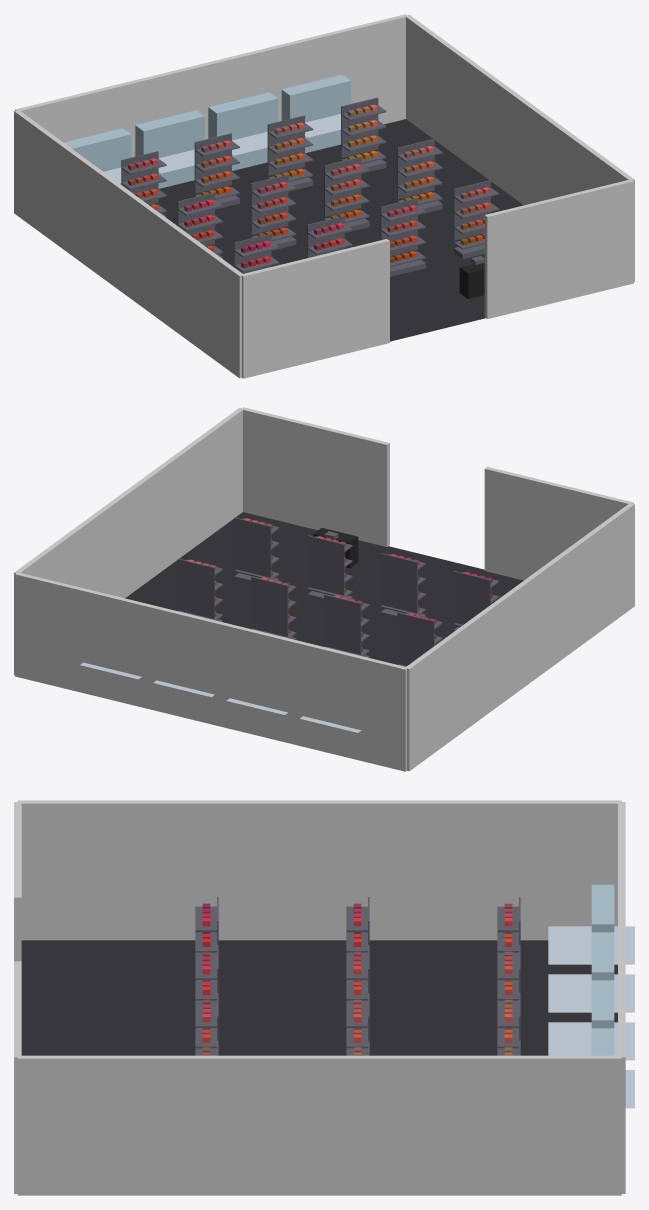
File: supermarket_interior.obj
The picture shows the model from 3 angles, top to bottom: view 1: azimuth 30°, elevation 25°; view 2: azimuth 150°, elevation 25°; view 3: azimuth 270°, elevation 25°; orthographic projection. The views are drawn at different scales.
Visible parts, largest first — view 1: WallLeft, WallBack, MarketFloor, WallRight, WallFrontR, WallFrontL, Cooler_3, Cooler_1, Cooler_2, Cooler_0, ShelfBack_2_2, ShelfBack_2_1 (+14 smaller); view 2: WallBack, WallLeft, WallRight, WallFrontR, MarketFloor, WallFrontL, ShelfBack_0_2, ShelfBack_0_1, ShelfBack_1_1, ShelfBack_1_3, ShelfBack_0_3, ShelfBack_1_2 (+3 smaller); view 3: WallRight, WallLeft, MarketFloor, WallBack, CoolerGlass_0, CoolerGlass_1, CoolerGlass_2, WallFrontR, WallFrontL, Cooler_1, Cooler_2, Cooler_0 (+1 smaller).
Boxes of the visible parts, x1,y1,x2,y2 form: WallLeft: [14, 110, 243, 378]; WallBack: [15, 14, 407, 157]; MarketFloor: [149, 119, 523, 341]; WallRight: [405, 14, 634, 281]; WallFrontR: [484, 180, 633, 319]; WallFrontL: [241, 239, 389, 378]; Cooler_3: [281, 74, 351, 153]; Cooler_1: [135, 110, 204, 188]; Cooler_2: [208, 92, 277, 170]; Cooler_0: [64, 128, 131, 184]; ShelfBack_2_2: [267, 115, 304, 175]; ShelfBack_2_1: [194, 133, 231, 193]; WallBack: [15, 573, 406, 771]; WallLeft: [405, 503, 634, 771]; WallRight: [14, 407, 242, 674]; WallFrontR: [241, 407, 389, 546]; MarketFloor: [125, 512, 523, 664]; WallFrontL: [484, 466, 633, 580]; ShelfBack_0_2: [307, 535, 344, 595]; ShelfBack_0_1: [380, 553, 417, 613]; ShelfBack_1_1: [324, 594, 361, 654]; ShelfBack_1_3: [177, 558, 214, 618]; ShelfBack_0_3: [234, 517, 271, 577]; ShelfBack_1_2: [251, 576, 288, 636]; WallRight: [17, 1055, 621, 1195]; WallLeft: [17, 800, 621, 940]; MarketFloor: [21, 940, 617, 1055]; WallBack: [618, 802, 625, 1193]; CoolerGlass_0: [548, 926, 634, 964]; CoolerGlass_1: [548, 974, 634, 1012]; CoolerGlass_2: [548, 1022, 634, 1060]; WallFrontR: [14, 961, 21, 1193]; WallFrontL: [14, 802, 21, 961]; Cooler_1: [591, 932, 614, 980]; Cooler_2: [591, 980, 614, 1028]; Cooler_0: [591, 884, 614, 932].
Size of the model in its own units: 16.2 by 4 by 16.45.
